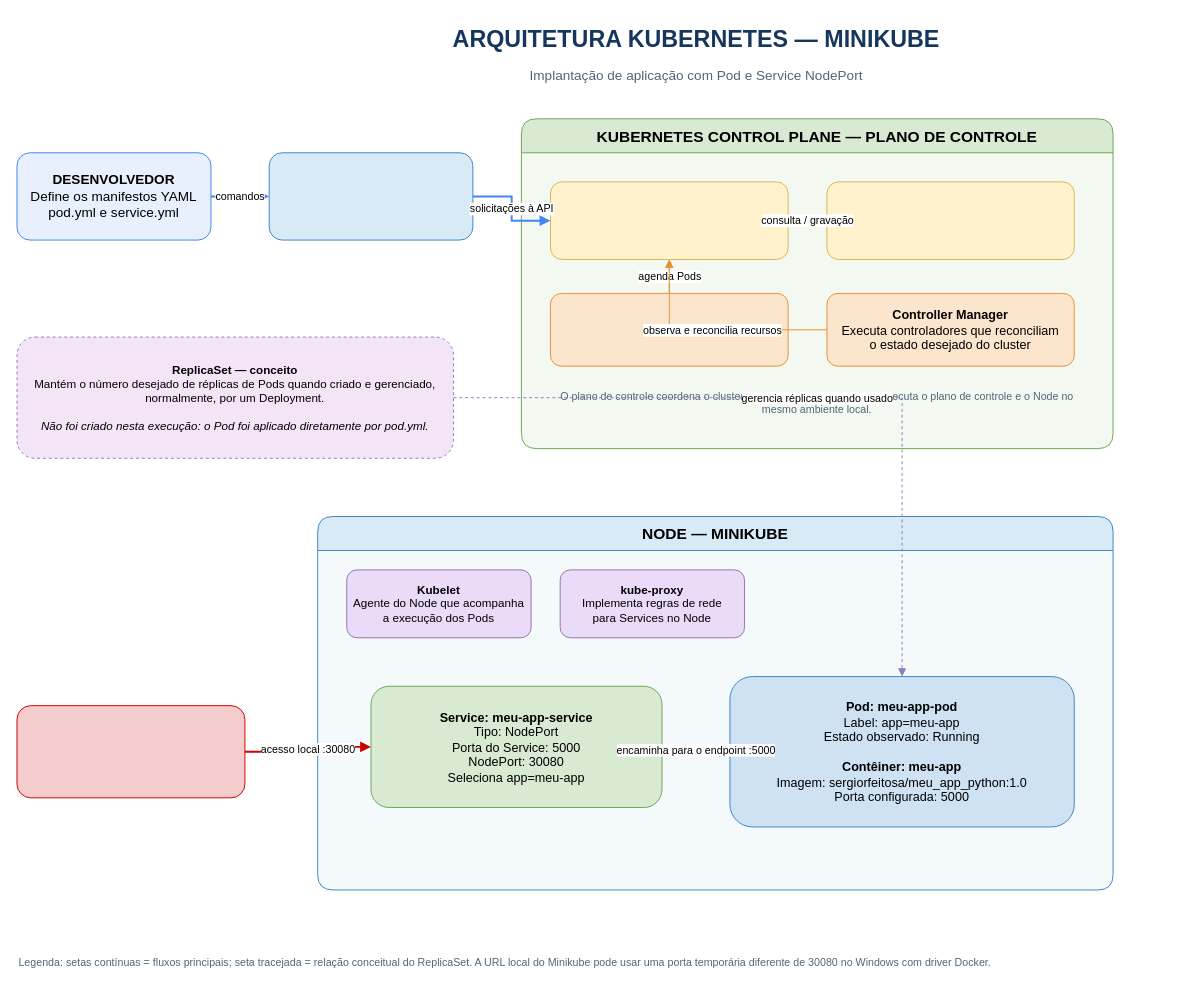
The diagram is 1198 pixels wide and 1003 high, and some of its shapes have lost their labels. The centre of each missing label's shape, as x and y in pixels:
API Server Recebe e valida solicitações de acesso à API: point 669,220
etcd Armazena o estado e os dados do cluster: point 950,220
kubectl Ferramenta de linha de comando Aplica e consulta recursos: point 370,196
Scheduler Escolhe o Node onde um Pod deve ser agendado: point 669,329
USUÁRIO / NAVEGADOR Acesso pelo endereço local retornado pelo Minikube: point 130,751
